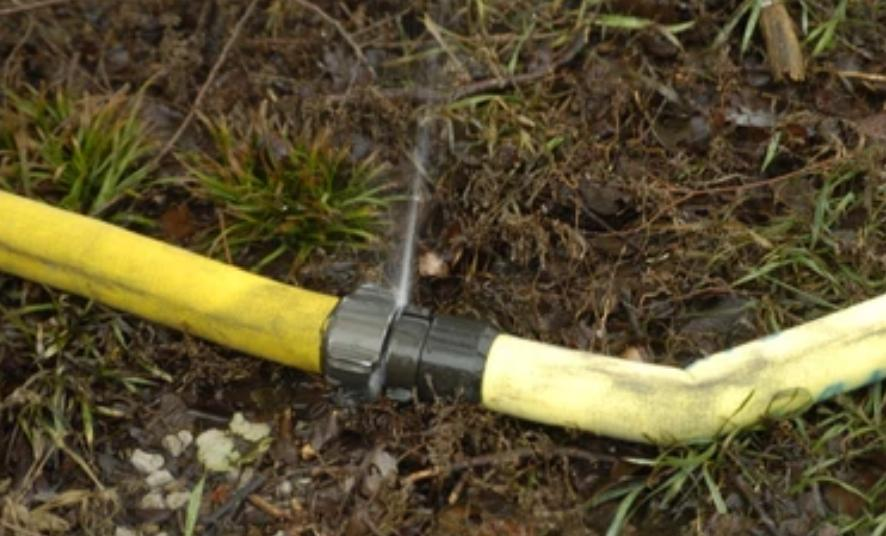pipe burst: (390, 55, 439, 313)
